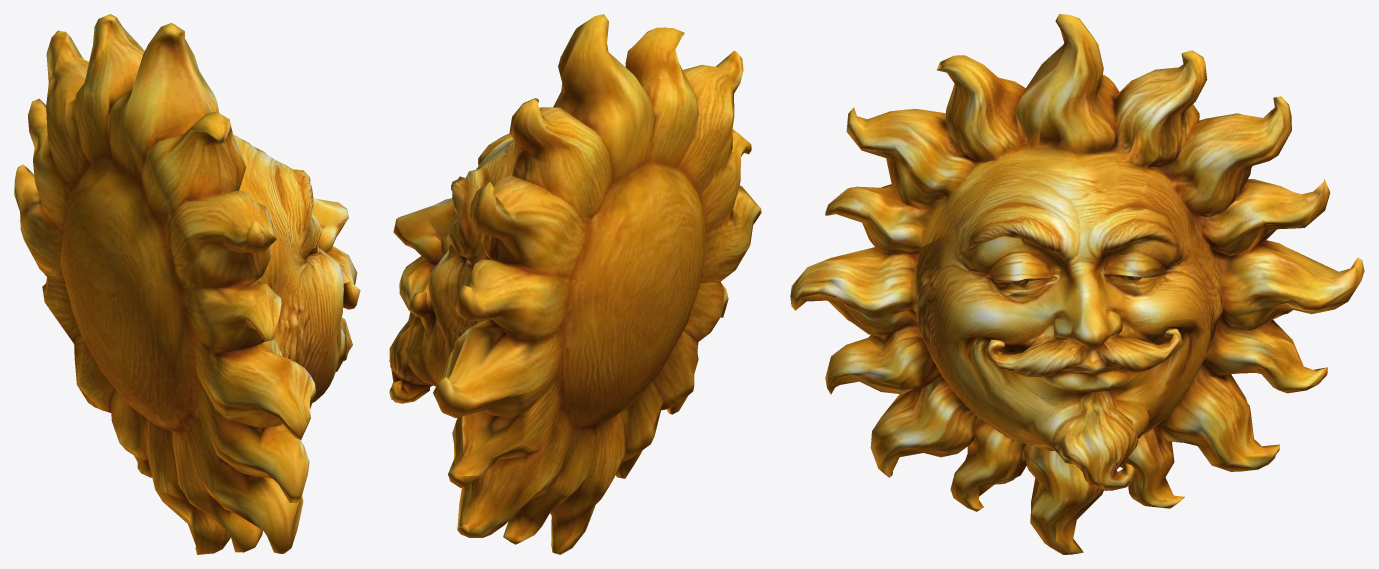
Rendered from G-sun.glb.
3 views of the same model, side by side, from view 1: azimuth 30°, elevation 25°; view 2: azimuth 150°, elevation 25°; view 3: azimuth 270°, elevation 25° (orthographic). The views are drawn at different scales.
Parts seen in each view (by area): view 1: tripo_node_1f48ee04-26a4-4dd4-b51b-8db6e633e0a6; view 2: tripo_node_1f48ee04-26a4-4dd4-b51b-8db6e633e0a6; view 3: tripo_node_1f48ee04-26a4-4dd4-b51b-8db6e633e0a6.
Part boxes in pixels (bbox=[...]): tripo_node_1f48ee04-26a4-4dd4-b51b-8db6e633e0a6: bbox=[14, 14, 360, 554]; tripo_node_1f48ee04-26a4-4dd4-b51b-8db6e633e0a6: bbox=[389, 14, 761, 554]; tripo_node_1f48ee04-26a4-4dd4-b51b-8db6e633e0a6: bbox=[790, 14, 1364, 554].
Size of the model in its own units: 0.4894 by 0.9784 by 0.9704.
Materials: 1 (1 with a texture image).
